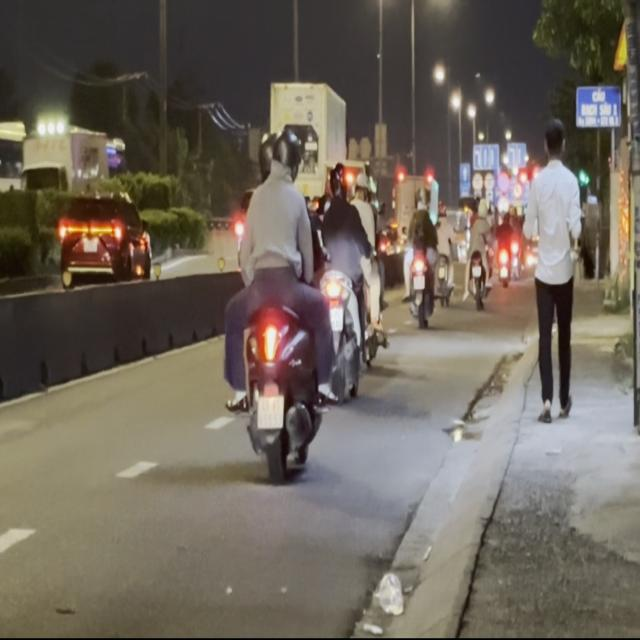helmet: (268, 125, 300, 180), (256, 129, 274, 177), (329, 158, 348, 196)
licenseplate: (219, 120, 330, 483), (317, 155, 387, 399)
nohelmet: (256, 395, 283, 428)
